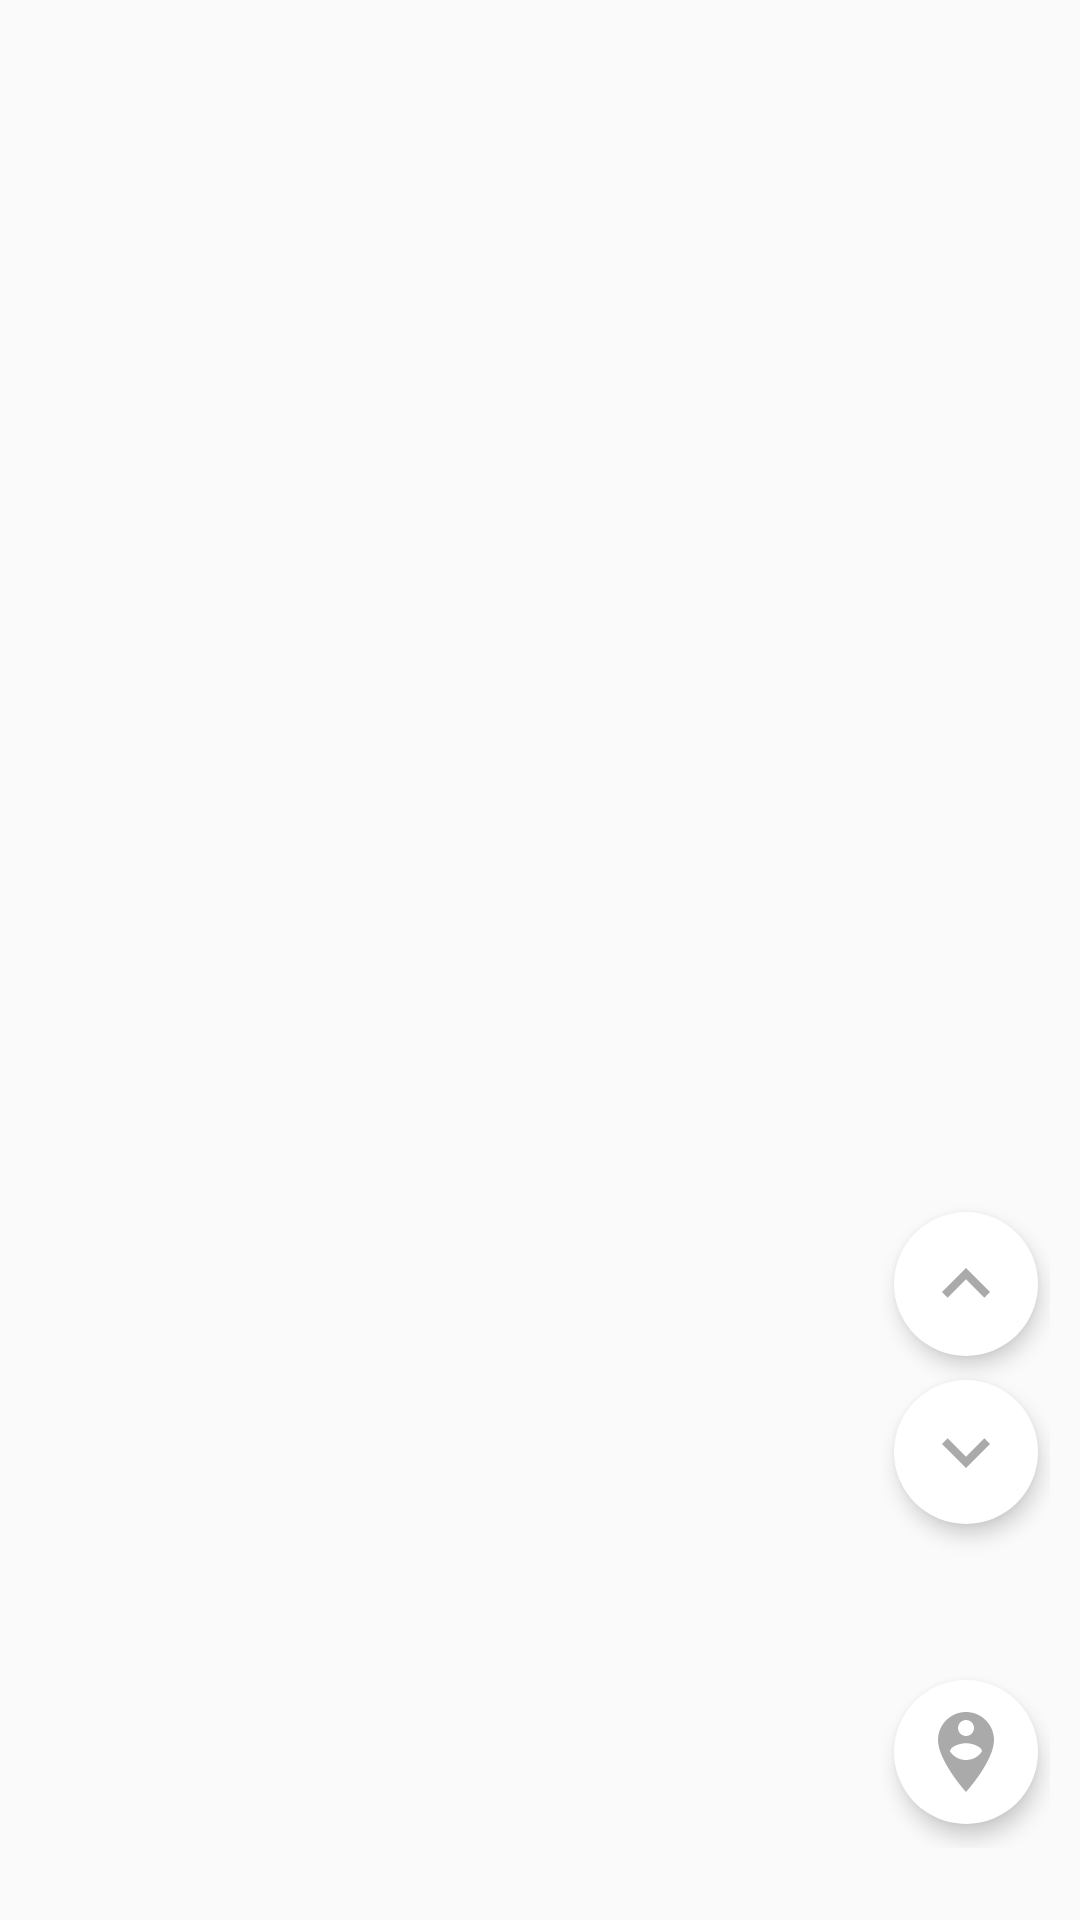

Screen size 1080w x 1920h. Icon name, then its center in pixels as point (x, y):
arrow down: point (971, 1481)
arrow up: point (972, 1312)
person: point (966, 1752)
